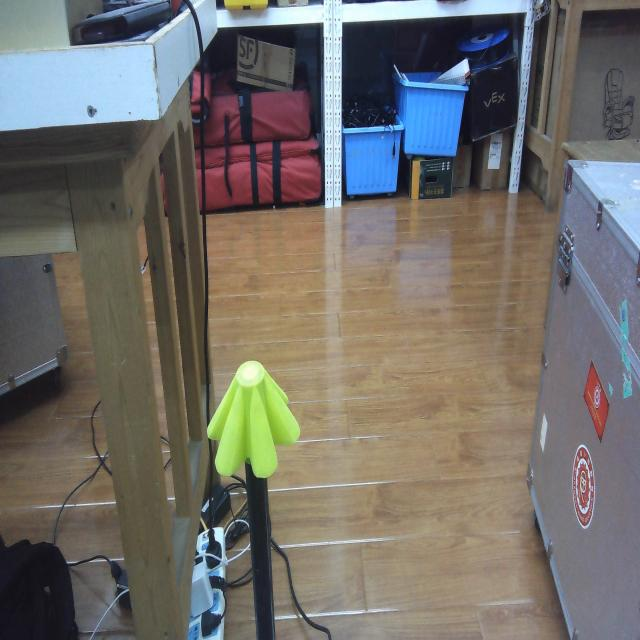Yellow-Stake-Head: (207, 360, 301, 479)
